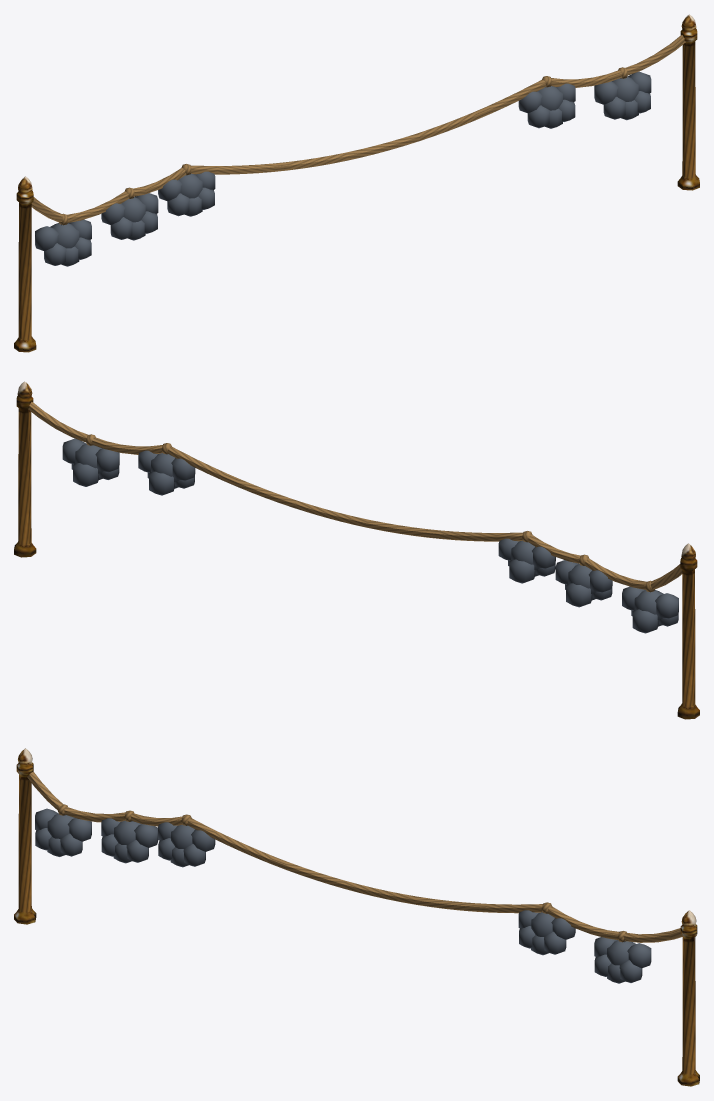
The model's file is toad-prop-rope-clouds.glb.
The picture shows the model from 3 angles, top to bottom: view 1: azimuth 30°, elevation 25°; view 2: azimuth 150°, elevation 25°; view 3: azimuth 330°, elevation 25°; orthographic projection.
Visible parts, largest first — view 1: rope, raincloud0, raincloud4, raincloud1, raincloud3, raincloud2; view 2: rope, raincloud0, raincloud4, raincloud1, raincloud3, raincloud2; view 3: rope, raincloud4, raincloud0, raincloud1, raincloud2, raincloud3.
Boxes of the visible parts, box(x1,y1,x2,y2) form: rope: box(14, 14, 699, 352); raincloud0: box(35, 219, 91, 266); raincloud4: box(594, 71, 651, 120); raincloud1: box(101, 193, 158, 240); raincloud3: box(518, 83, 575, 128); raincloud2: box(158, 171, 215, 216); rope: box(14, 381, 699, 719); raincloud0: box(622, 586, 678, 633); raincloud4: box(62, 438, 119, 486); raincloud1: box(555, 560, 612, 607); raincloud3: box(138, 450, 195, 495); raincloud2: box(498, 538, 555, 583); rope: box(14, 748, 699, 1086); raincloud4: box(594, 937, 651, 983); raincloud0: box(35, 808, 91, 856); raincloud1: box(101, 818, 158, 863); raincloud2: box(158, 822, 215, 867); raincloud3: box(518, 910, 575, 955).
Size of the model in its own units: 1.44 by 0.345 by 0.0804.
Materials: 2 (1 with a texture image).
